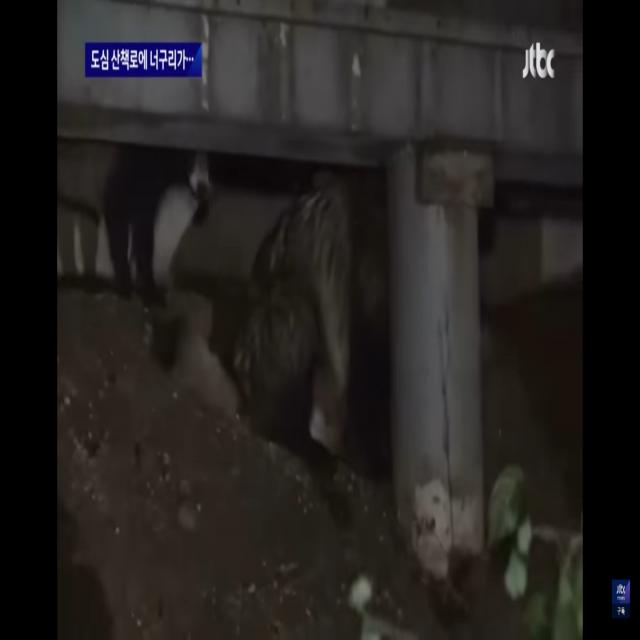racoon: (54, 137, 210, 297)
